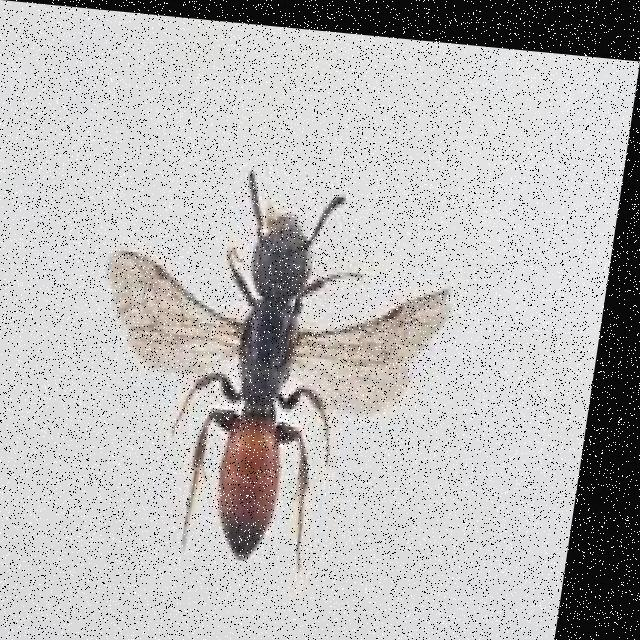Allodapula: (71, 140, 484, 593)
